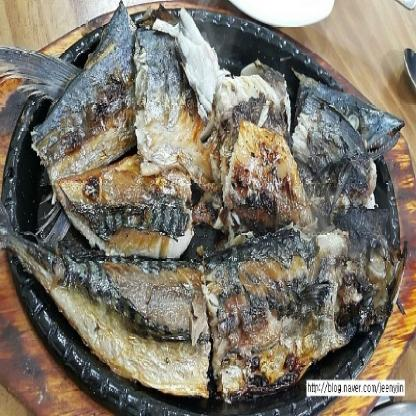Peixe: (6, 0, 416, 416)
